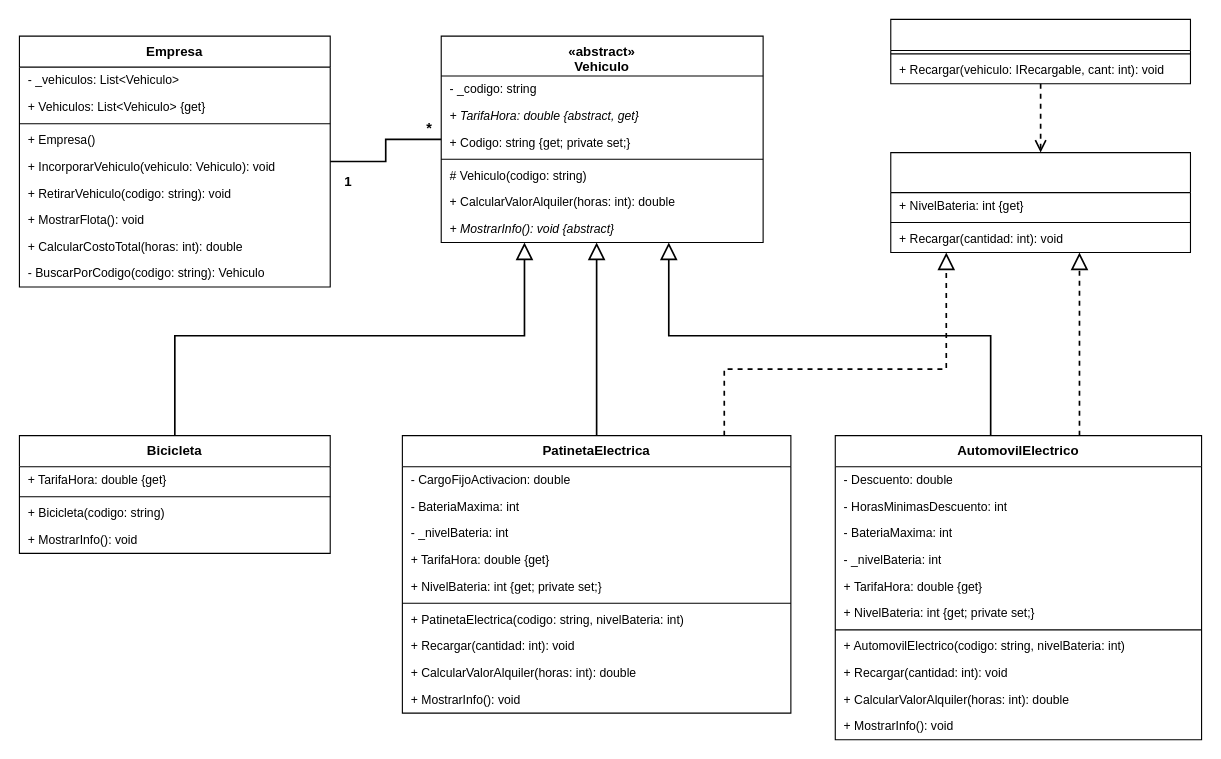
Some shapes in this 1221 by 759 pixel diagram are drawn without their labels. Each missing label, with the box of its shape:
EstacionCarga: (890, 18, 1190, 84)
«interface» IRecargable: (890, 152, 1190, 253)
